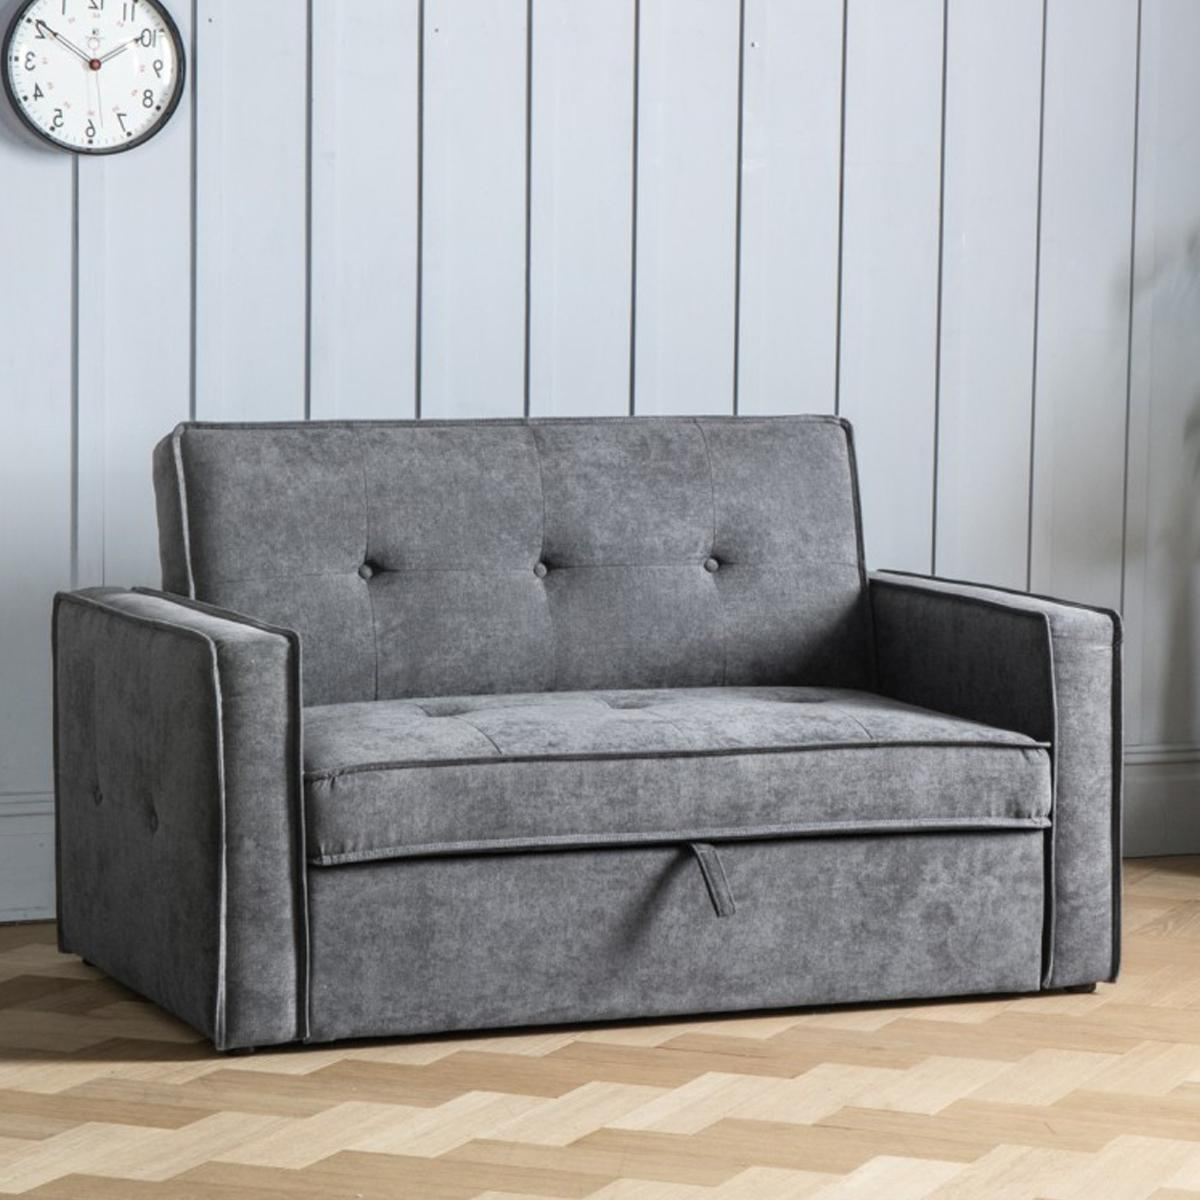Sofa: (50, 417, 1128, 1050)
